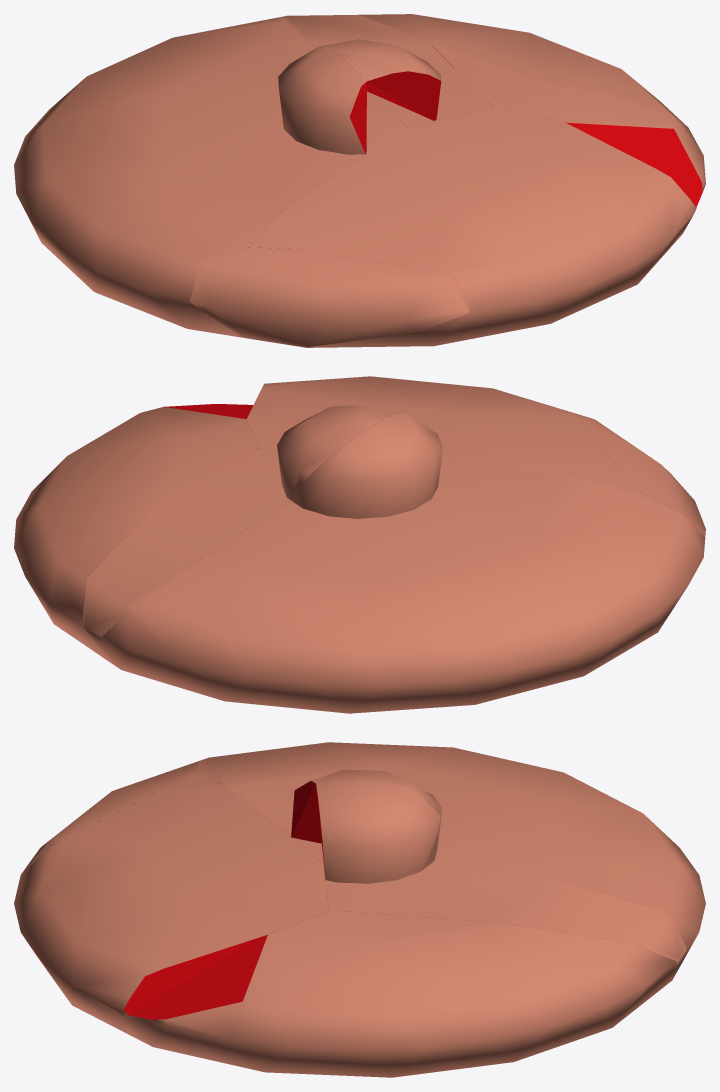
Rendered from ClayDish_01_destroyed 1.fbx.
3 renders of one model, top to bottom at view 1: azimuth 30°, elevation 25°; view 2: azimuth 150°, elevation 25°; view 3: azimuth 270°, elevation 25°, orthographic.
Parts seen in each view (by area): view 1: ClayDish_01_cell.004, ClayDish_01_cell.003, ClayDish_01_cell.005, ClayDish_01_cell.002, ClayDish_01_cell; view 2: ClayDish_01_cell.004, ClayDish_01_cell.005, ClayDish_01_cell.003, ClayDish_01_cell, ClayDish_01_cell.002; view 3: ClayDish_01_cell.005, ClayDish_01_cell.003, ClayDish_01_cell.004, ClayDish_01_cell, ClayDish_01_cell.002.
Part boxes in pixels (box(x1,y1,x2,y2)): ClayDish_01_cell.004: box(14, 17, 407, 337); ClayDish_01_cell.003: box(235, 107, 696, 347); ClayDish_01_cell.005: box(360, 14, 705, 248); ClayDish_01_cell.002: box(189, 247, 469, 346); ClayDish_01_cell: box(278, 14, 491, 126); ClayDish_01_cell.004: box(98, 413, 705, 713); ClayDish_01_cell.005: box(14, 404, 258, 663); ClayDish_01_cell.003: box(246, 376, 635, 490); ClayDish_01_cell: box(82, 405, 396, 643); ClayDish_01_cell.002: box(576, 413, 705, 536); ClayDish_01_cell.005: box(126, 910, 676, 1077); ClayDish_01_cell.003: box(14, 775, 328, 1033); ClayDish_01_cell.004: box(195, 742, 705, 985); ClayDish_01_cell: box(316, 777, 686, 969); ClayDish_01_cell.002: box(22, 761, 198, 872).
Bounding box in the file's own units: 21.64 × 5.48 × 21.64.
